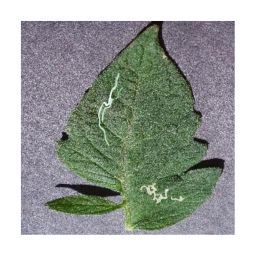liriomyza: (96, 72, 123, 148), (139, 182, 184, 204)
